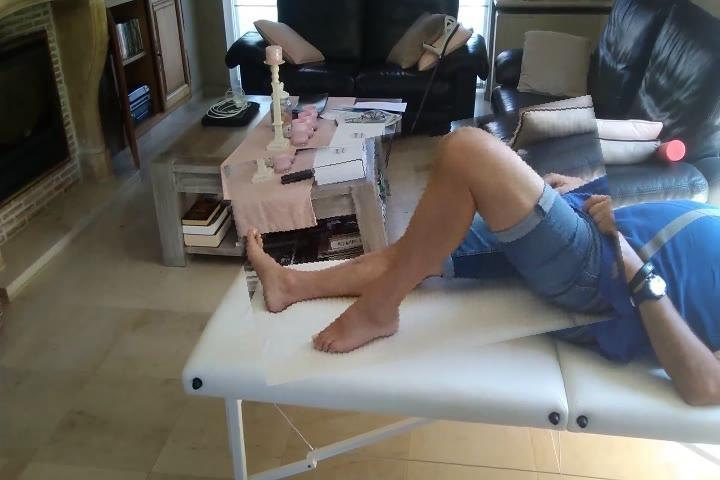lowerbody: (234, 112, 626, 371)
